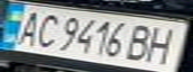1: (90, 17, 112, 56)
4: (72, 16, 96, 56)
6: (106, 19, 133, 60)
9: (51, 14, 81, 52)
A: (9, 8, 45, 47)
B: (121, 21, 160, 63)
C: (30, 11, 63, 50)
H: (139, 24, 190, 65)
